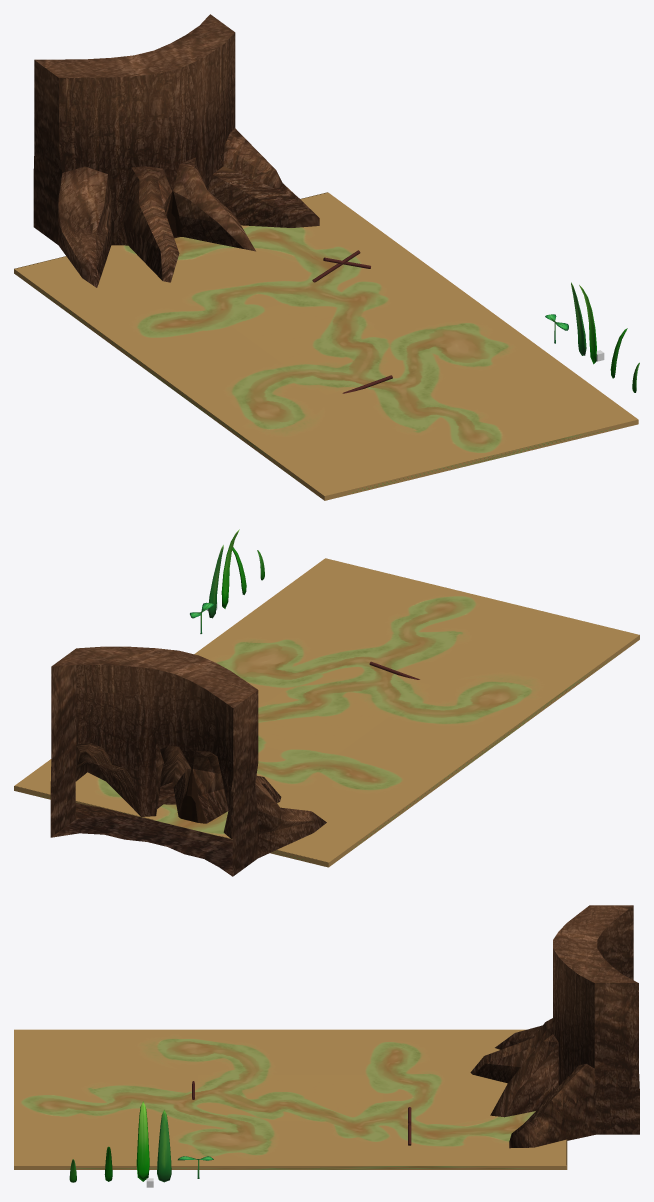
The model's file is tuin level.FBX.
The picture shows the model from 3 angles, top to bottom: view 1: azimuth 30°, elevation 25°; view 2: azimuth 150°, elevation 25°; view 3: azimuth 270°, elevation 25°; orthographic projection. The views are drawn at different scales.
Parts seen in each view (by area): view 1: grond, boom; view 2: grond, boom; view 3: grond, boom, Box002, Box001.
Boxes of the visible parts, x1,y1,x2,y2 form: grond: [14, 192, 638, 500]; boom: [33, 14, 319, 287]; grond: [14, 558, 639, 867]; boom: [50, 646, 326, 876]; grond: [14, 1029, 567, 1169]; boom: [470, 905, 639, 1148]; Box002: [136, 1101, 149, 1181]; Box001: [157, 1110, 171, 1182].
Bounding box in the file's own units: 6180 × 2858 × 10563.
Materials: 8 (7 with a texture image).
